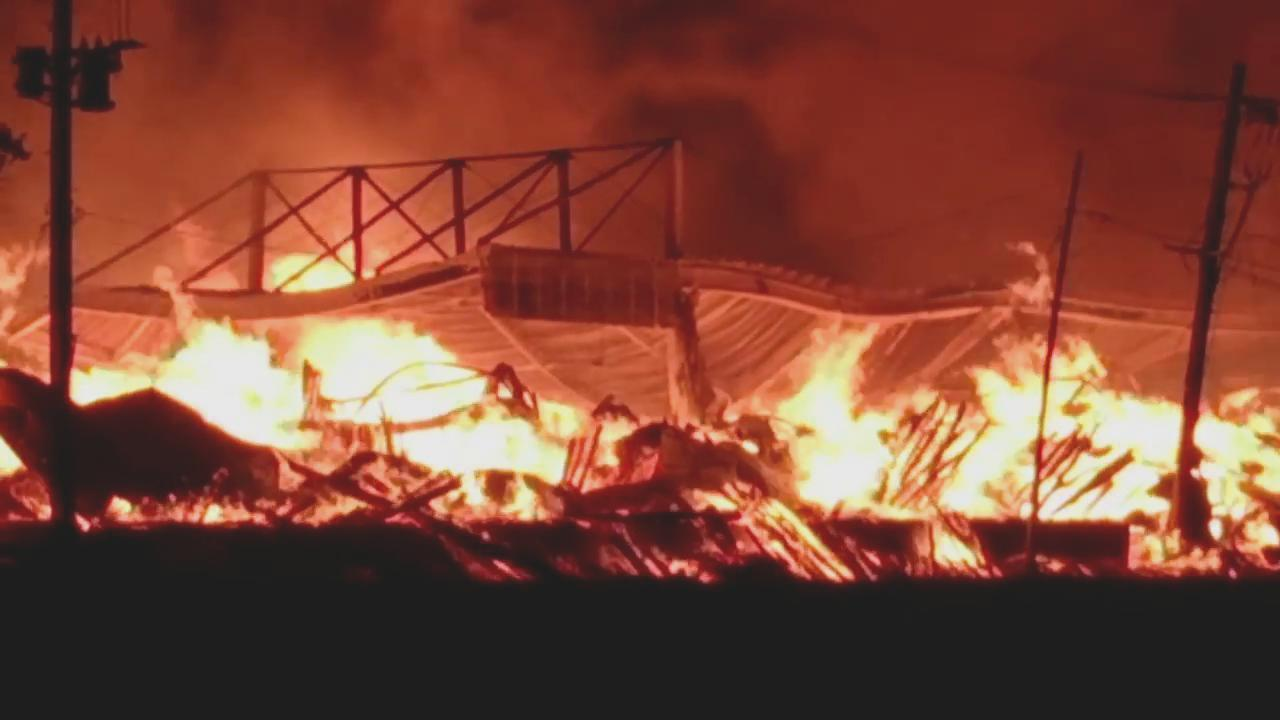Fire: (759, 326, 1277, 567), (54, 316, 636, 480), (270, 249, 357, 293)
